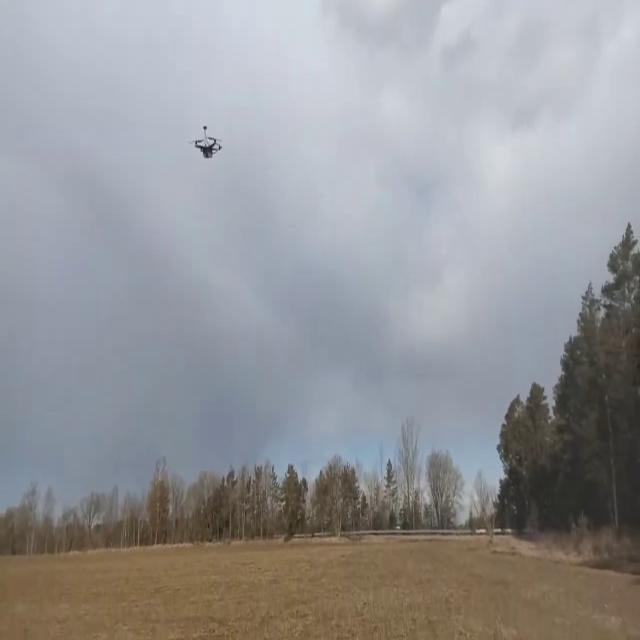Drons: (188, 124, 224, 164)
